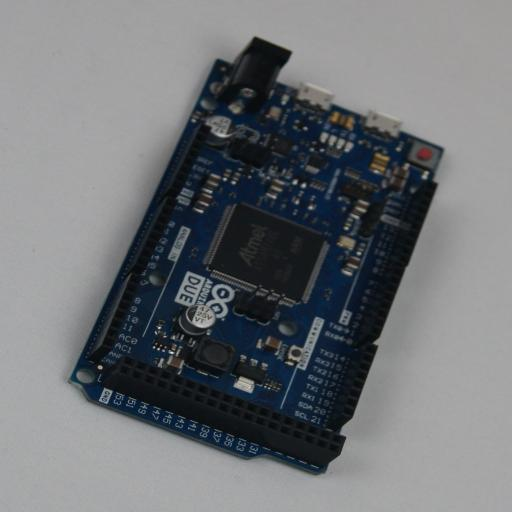Arduino Due: (68, 37, 444, 475)
